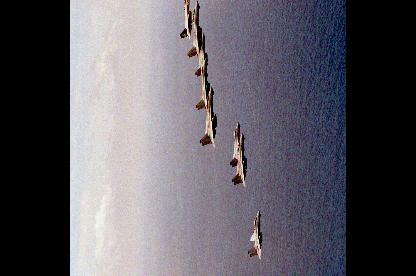EF2000: (200, 84, 216, 146), (188, 0, 202, 57), (232, 131, 246, 185), (196, 57, 210, 110), (248, 207, 262, 257), (179, 0, 193, 41), (230, 120, 240, 166), (195, 32, 205, 75)
